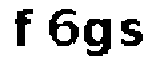6: (44, 5, 80, 50)
f: (11, 5, 38, 50)
g: (81, 15, 115, 60)
s: (120, 18, 145, 52)
